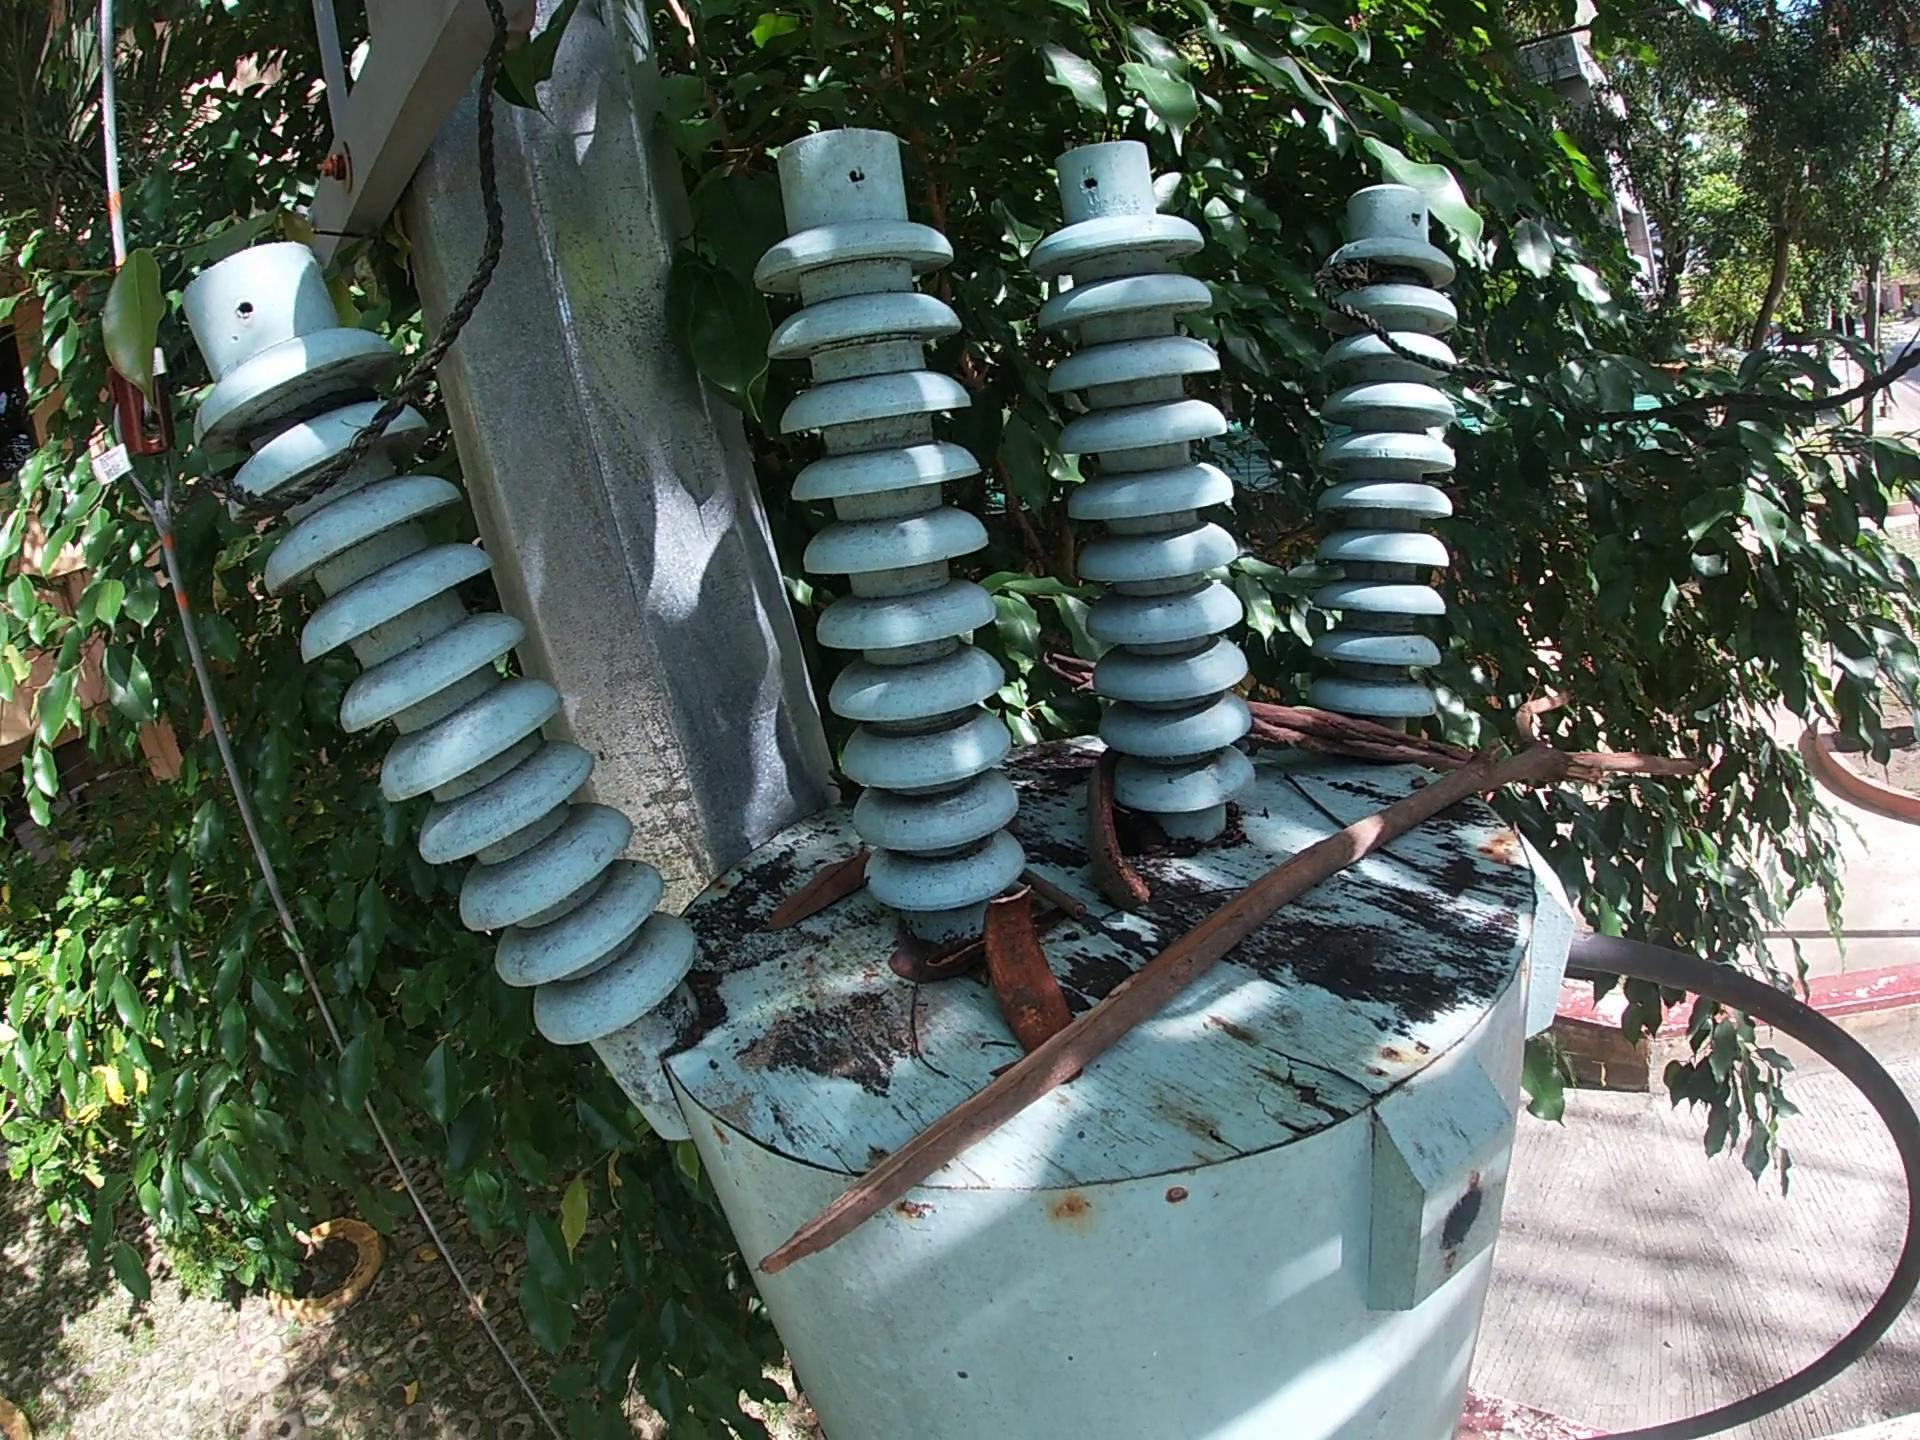leaf: (760, 852, 859, 945), (874, 945, 924, 992)
mahogany fruit: (1070, 734, 1163, 932), (971, 880, 1082, 1039)
tree branch: (726, 694, 1707, 1302), (1235, 693, 1501, 759), (898, 971, 974, 1072), (1020, 865, 1123, 932), (1099, 882, 1229, 929), (1019, 643, 1101, 706), (1284, 753, 1352, 823), (1373, 846, 1460, 889)
